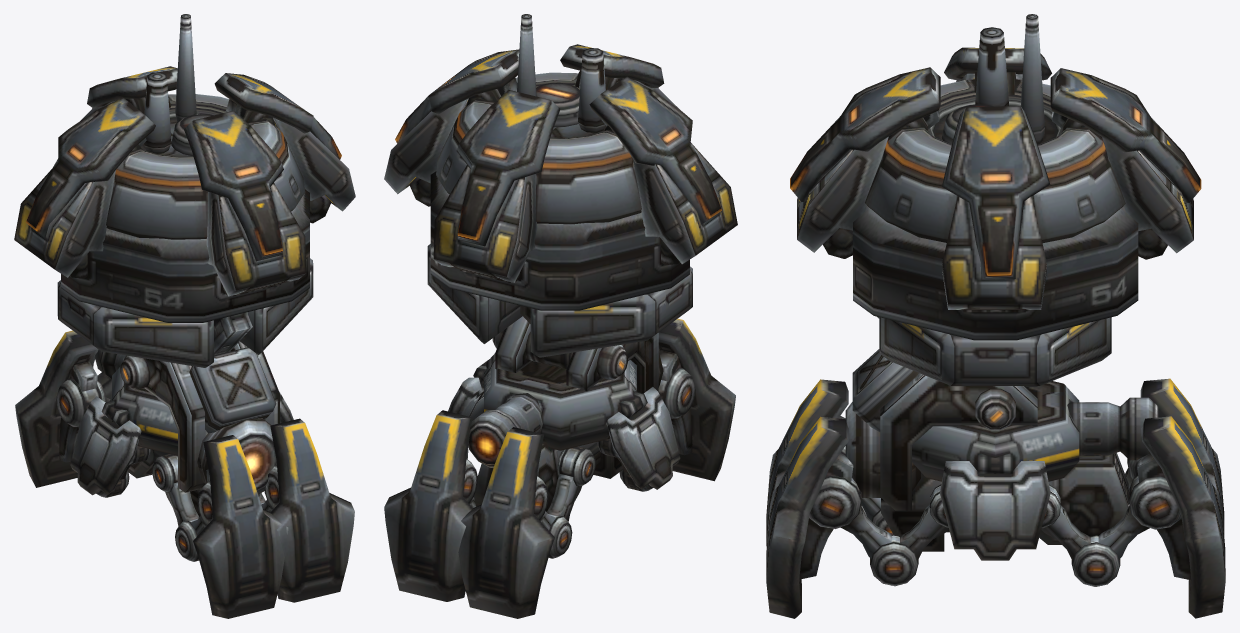
Rendered from ShredderEx3.glb.
The picture shows the model from 3 angles, left to right: view 1: azimuth 30°, elevation 25°; view 2: azimuth 150°, elevation 25°; view 3: azimuth 270°, elevation 25°; orthographic projection. The views are drawn at different scales.
Parts seen in each view (by area): view 1: Mesh; view 2: Mesh; view 3: Mesh.
Part boxes in pixels (x1,y1,x2,y2): Mesh: (14,14,355,618); Mesh: (384,14,737,618); Mesh: (766,14,1225,618).
Bounding box in the file's own units: 1.12 × 1.76 × 1.27.
1 material, 1 textured.
